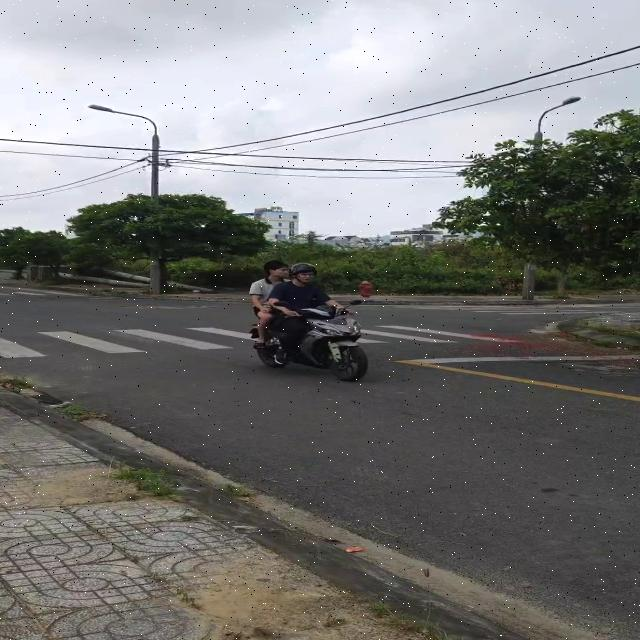helmet: (288, 263, 318, 278)
no_helmet: (263, 260, 288, 271)
